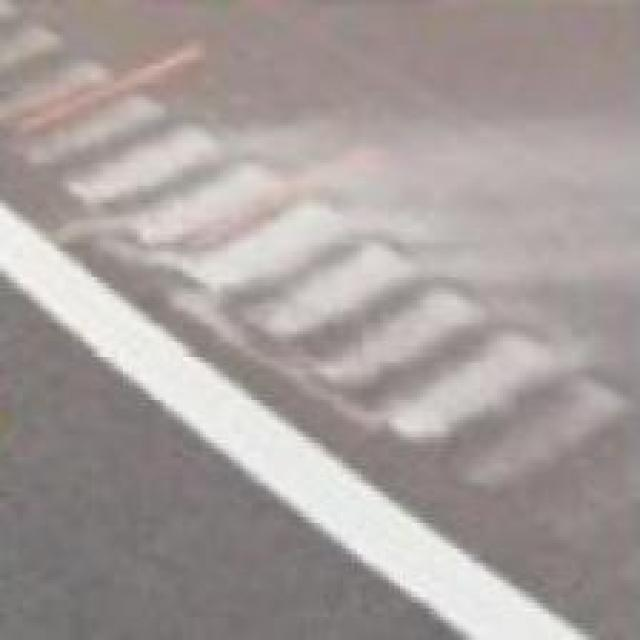walk-crossing: (0, 1, 637, 519)
